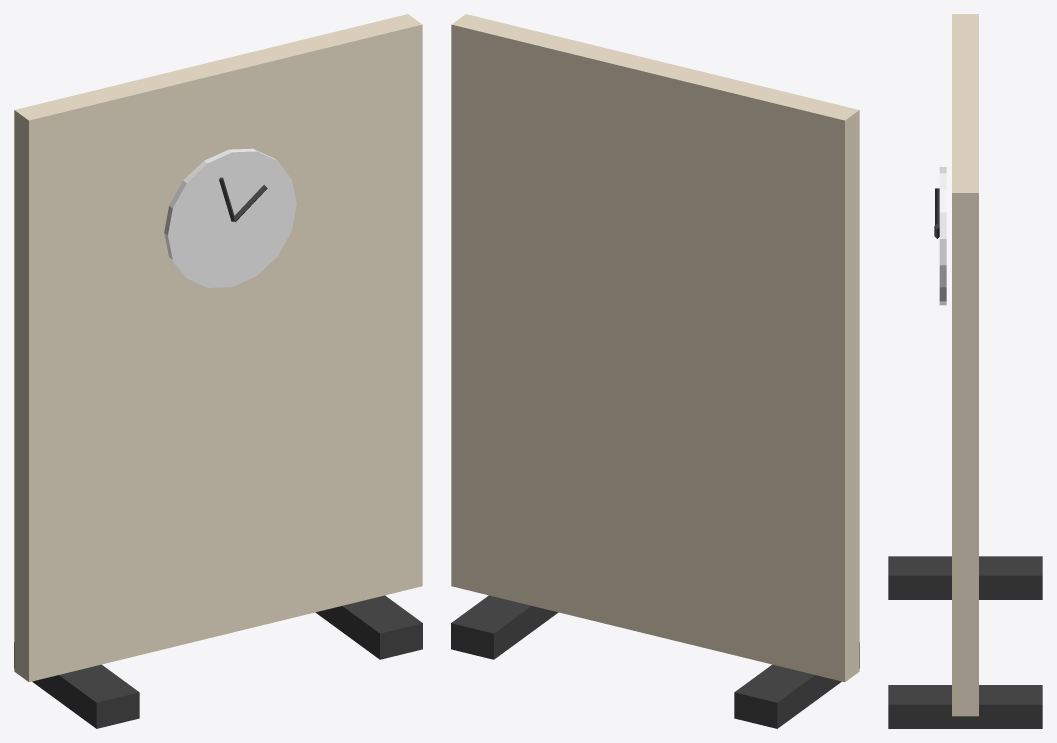
3 views of the same model, side by side, from view 1: azimuth 30°, elevation 25°; view 2: azimuth 150°, elevation 25°; view 3: azimuth 270°, elevation 25° (orthographic). The views are drawn at different scales.
Parts seen in each view (by area): view 1: Panel, Clock face, Panel foot, Panel foot.001; view 2: Panel, Panel foot, Panel foot.001; view 3: Panel, Panel foot.001, Panel foot, Clock face.
Boxes of the visible parts, x1,y1,x2,y2 form: Panel: (14, 14, 422, 681); Clock face: (164, 148, 296, 287); Panel foot: (14, 642, 139, 728); Panel foot.001: (315, 595, 422, 659); Panel: (451, 14, 859, 681); Panel foot: (734, 642, 859, 728); Panel foot.001: (451, 595, 558, 659); Panel: (952, 14, 978, 716); Panel foot.001: (888, 685, 1042, 728); Panel foot: (888, 556, 1042, 599); Clock face: (939, 167, 946, 305).
Bounding box in the file's own units: 110 × 158 × 40.
